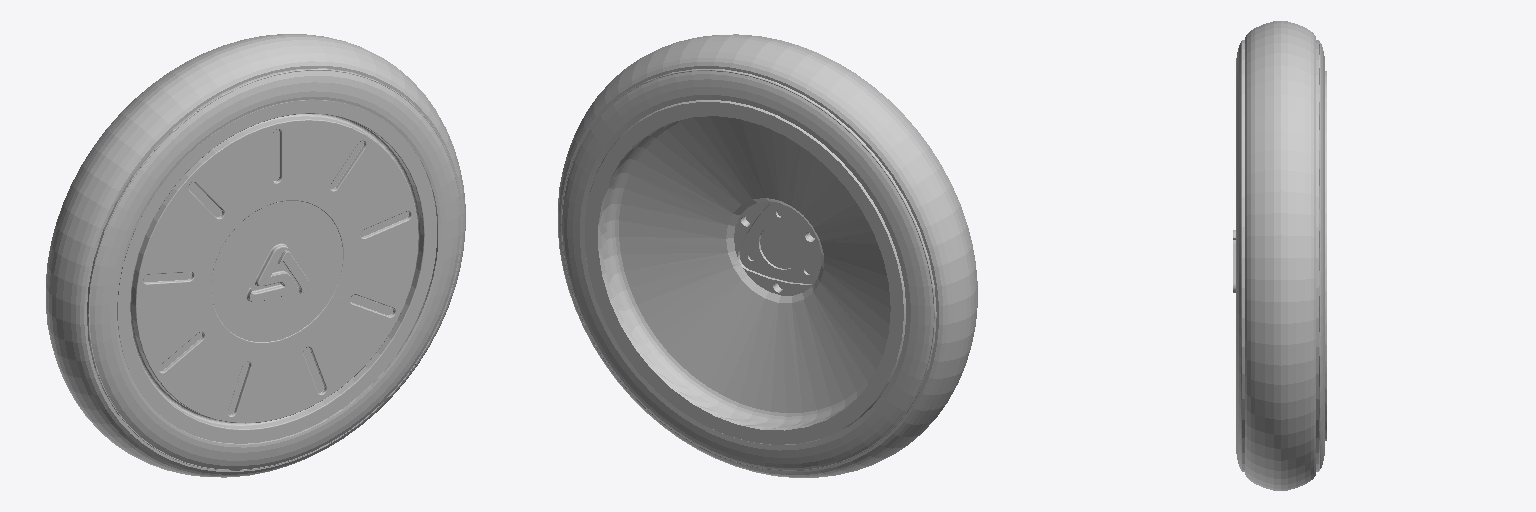
The model's file is processed_i2_wheel.obj.
3 views of the same model, side by side, from view 1: azimuth 30°, elevation 25°; view 2: azimuth 150°, elevation 25°; view 3: azimuth 270°, elevation 25° (orthographic).
Visible parts, largest first — view 1: i2_wheel; view 2: i2_wheel; view 3: i2_wheel.
Boxes of the visible parts, x1,y1,x2,y2 form: i2_wheel: [46, 34, 465, 477]; i2_wheel: [558, 34, 977, 477]; i2_wheel: [1233, 21, 1326, 490].
Bounding box in the file's own units: 0.4806 × 0.4811 × 0.0968.